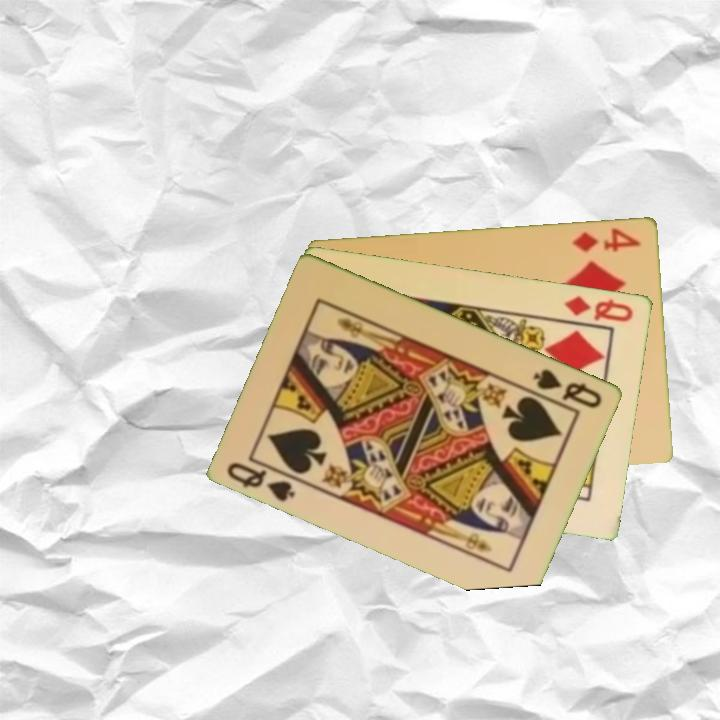4d: (568, 224, 644, 254)
Qd: (561, 292, 637, 324)
Qs: (529, 365, 606, 411), (224, 458, 299, 505)
